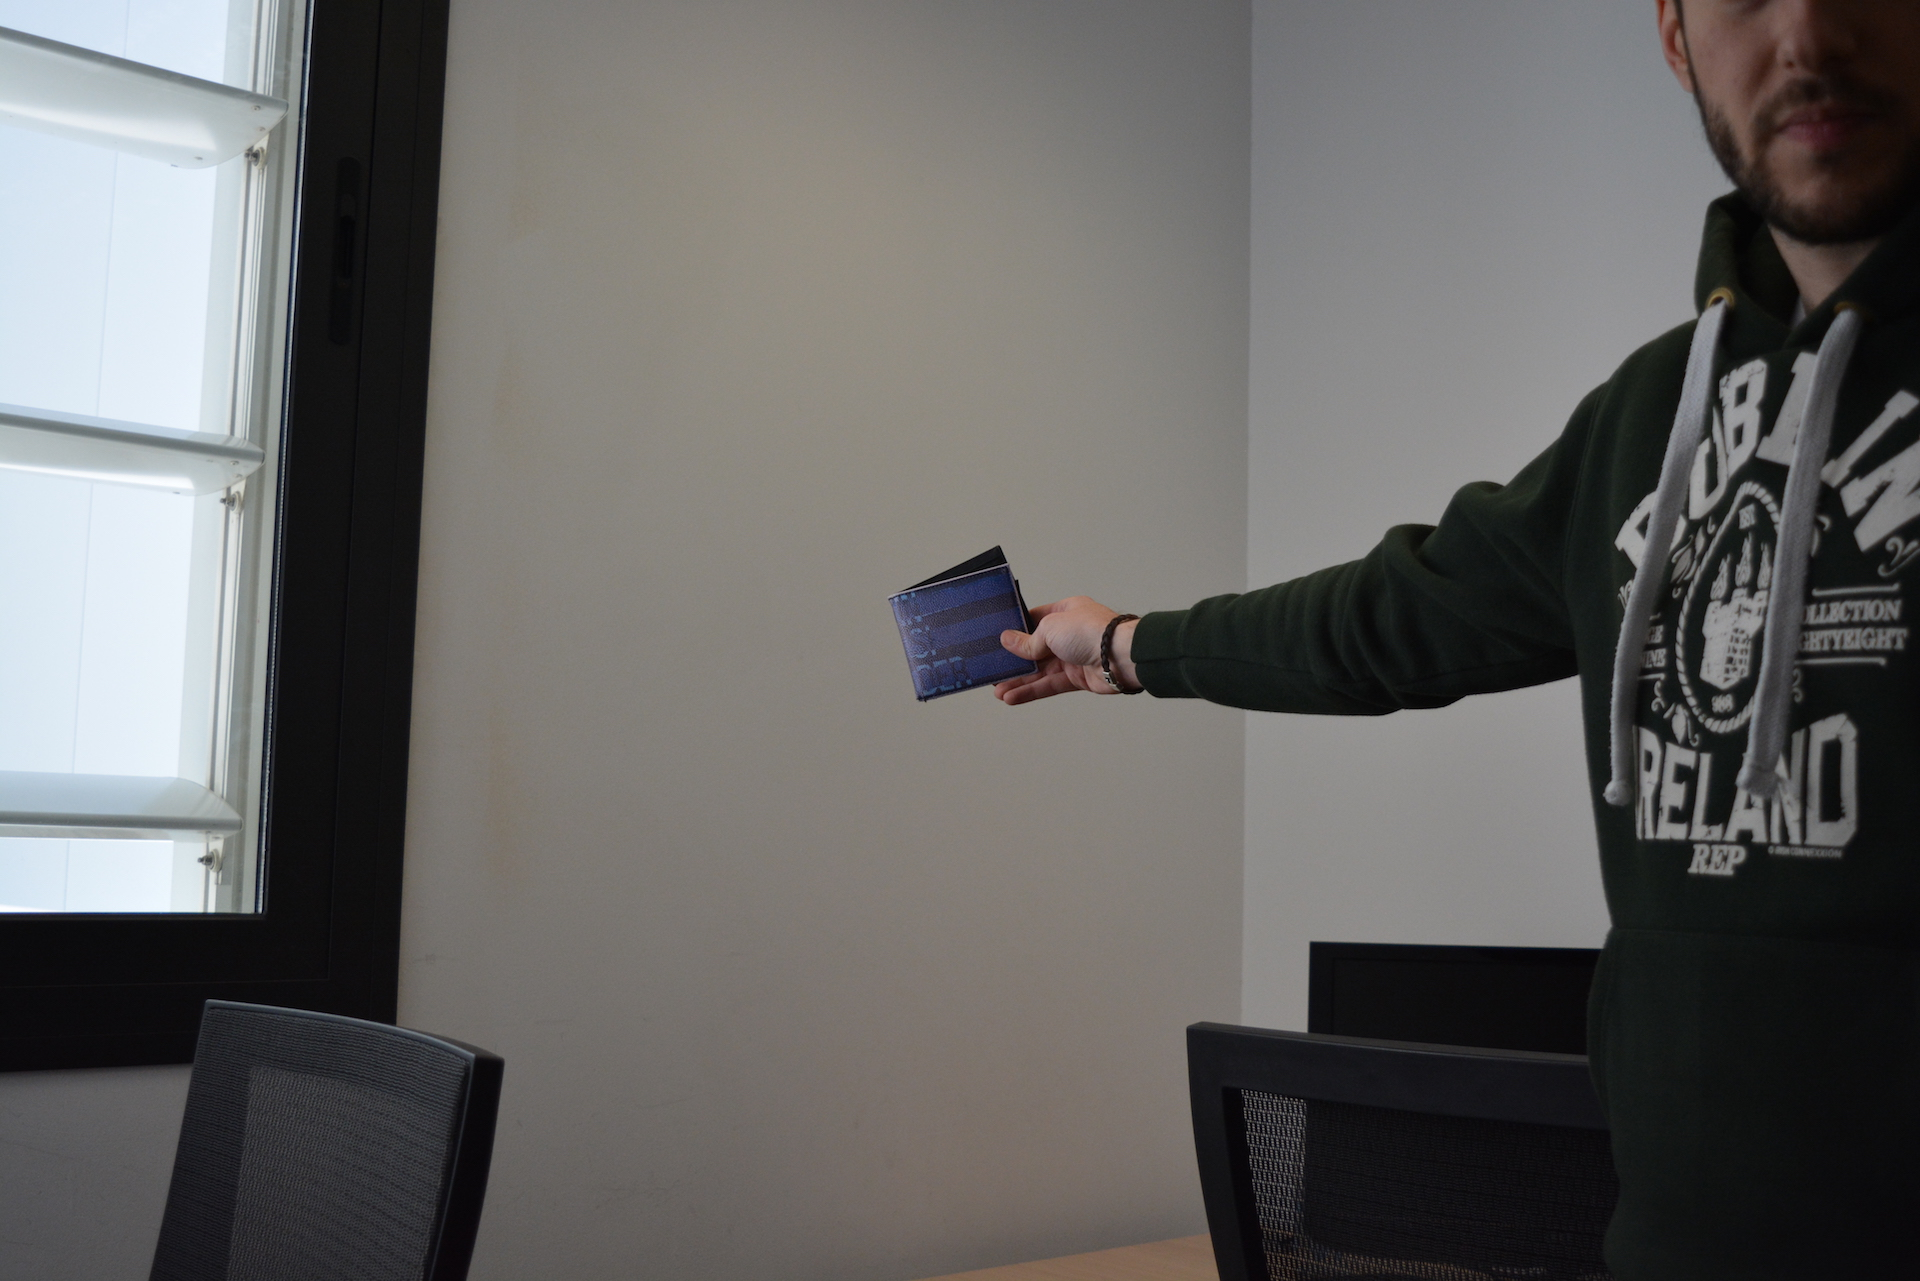monedero: (886, 542, 1042, 703)
